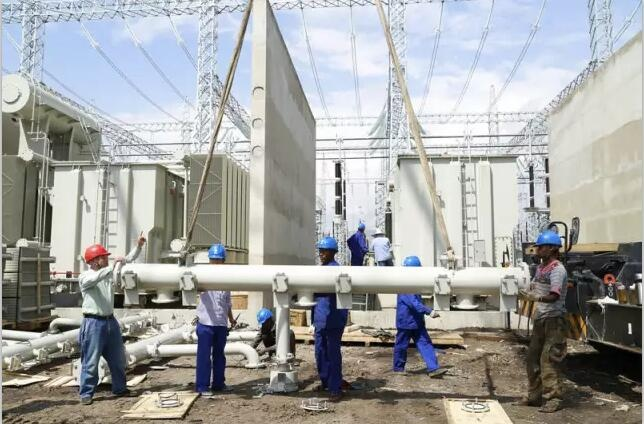blue: (532, 230, 563, 261), (314, 234, 338, 263), (204, 243, 228, 265), (254, 306, 274, 330), (355, 222, 365, 233)
red: (82, 244, 111, 270)
